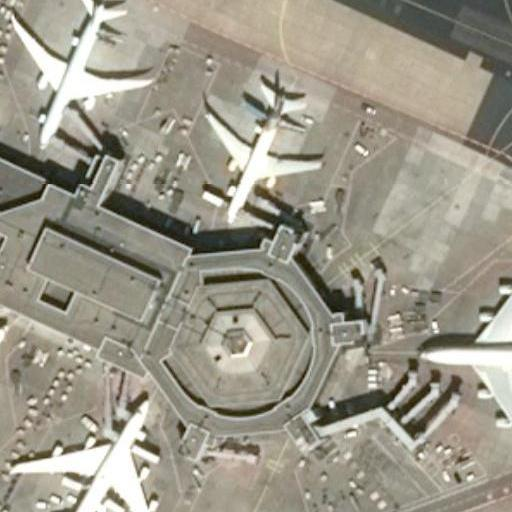Aircraft: (0, 0, 160, 154), (2, 378, 177, 512), (194, 66, 330, 224), (405, 262, 512, 424), (0, 295, 22, 486)
